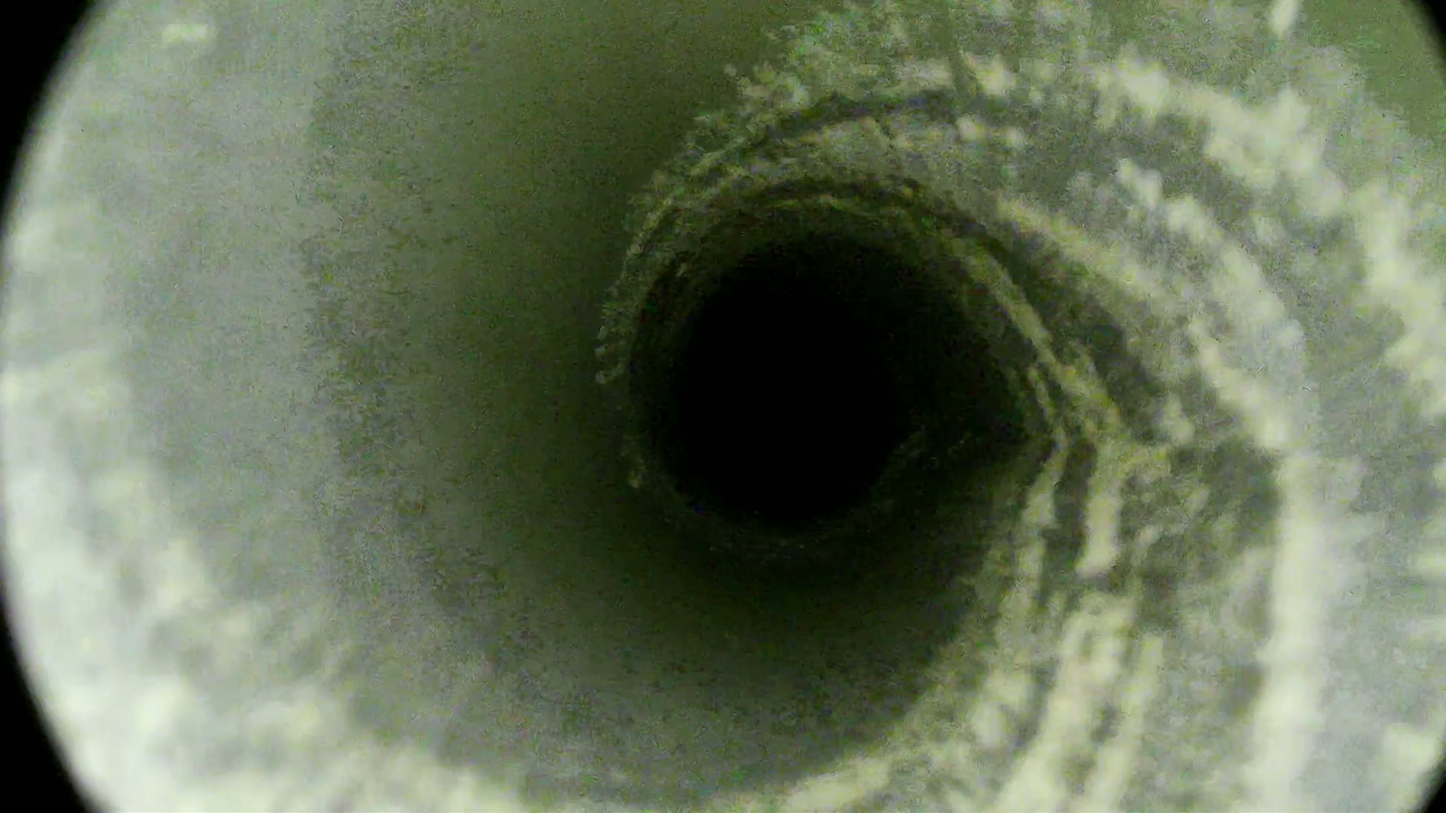hole: (679, 295, 898, 515)
